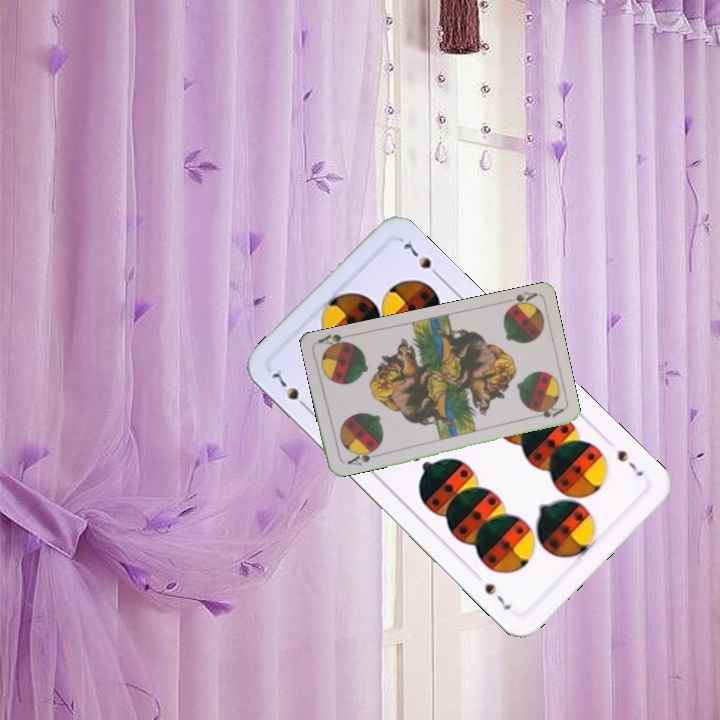S7: (267, 365, 312, 413), (613, 446, 647, 479)
SA: (502, 288, 539, 313), (343, 445, 381, 468)
